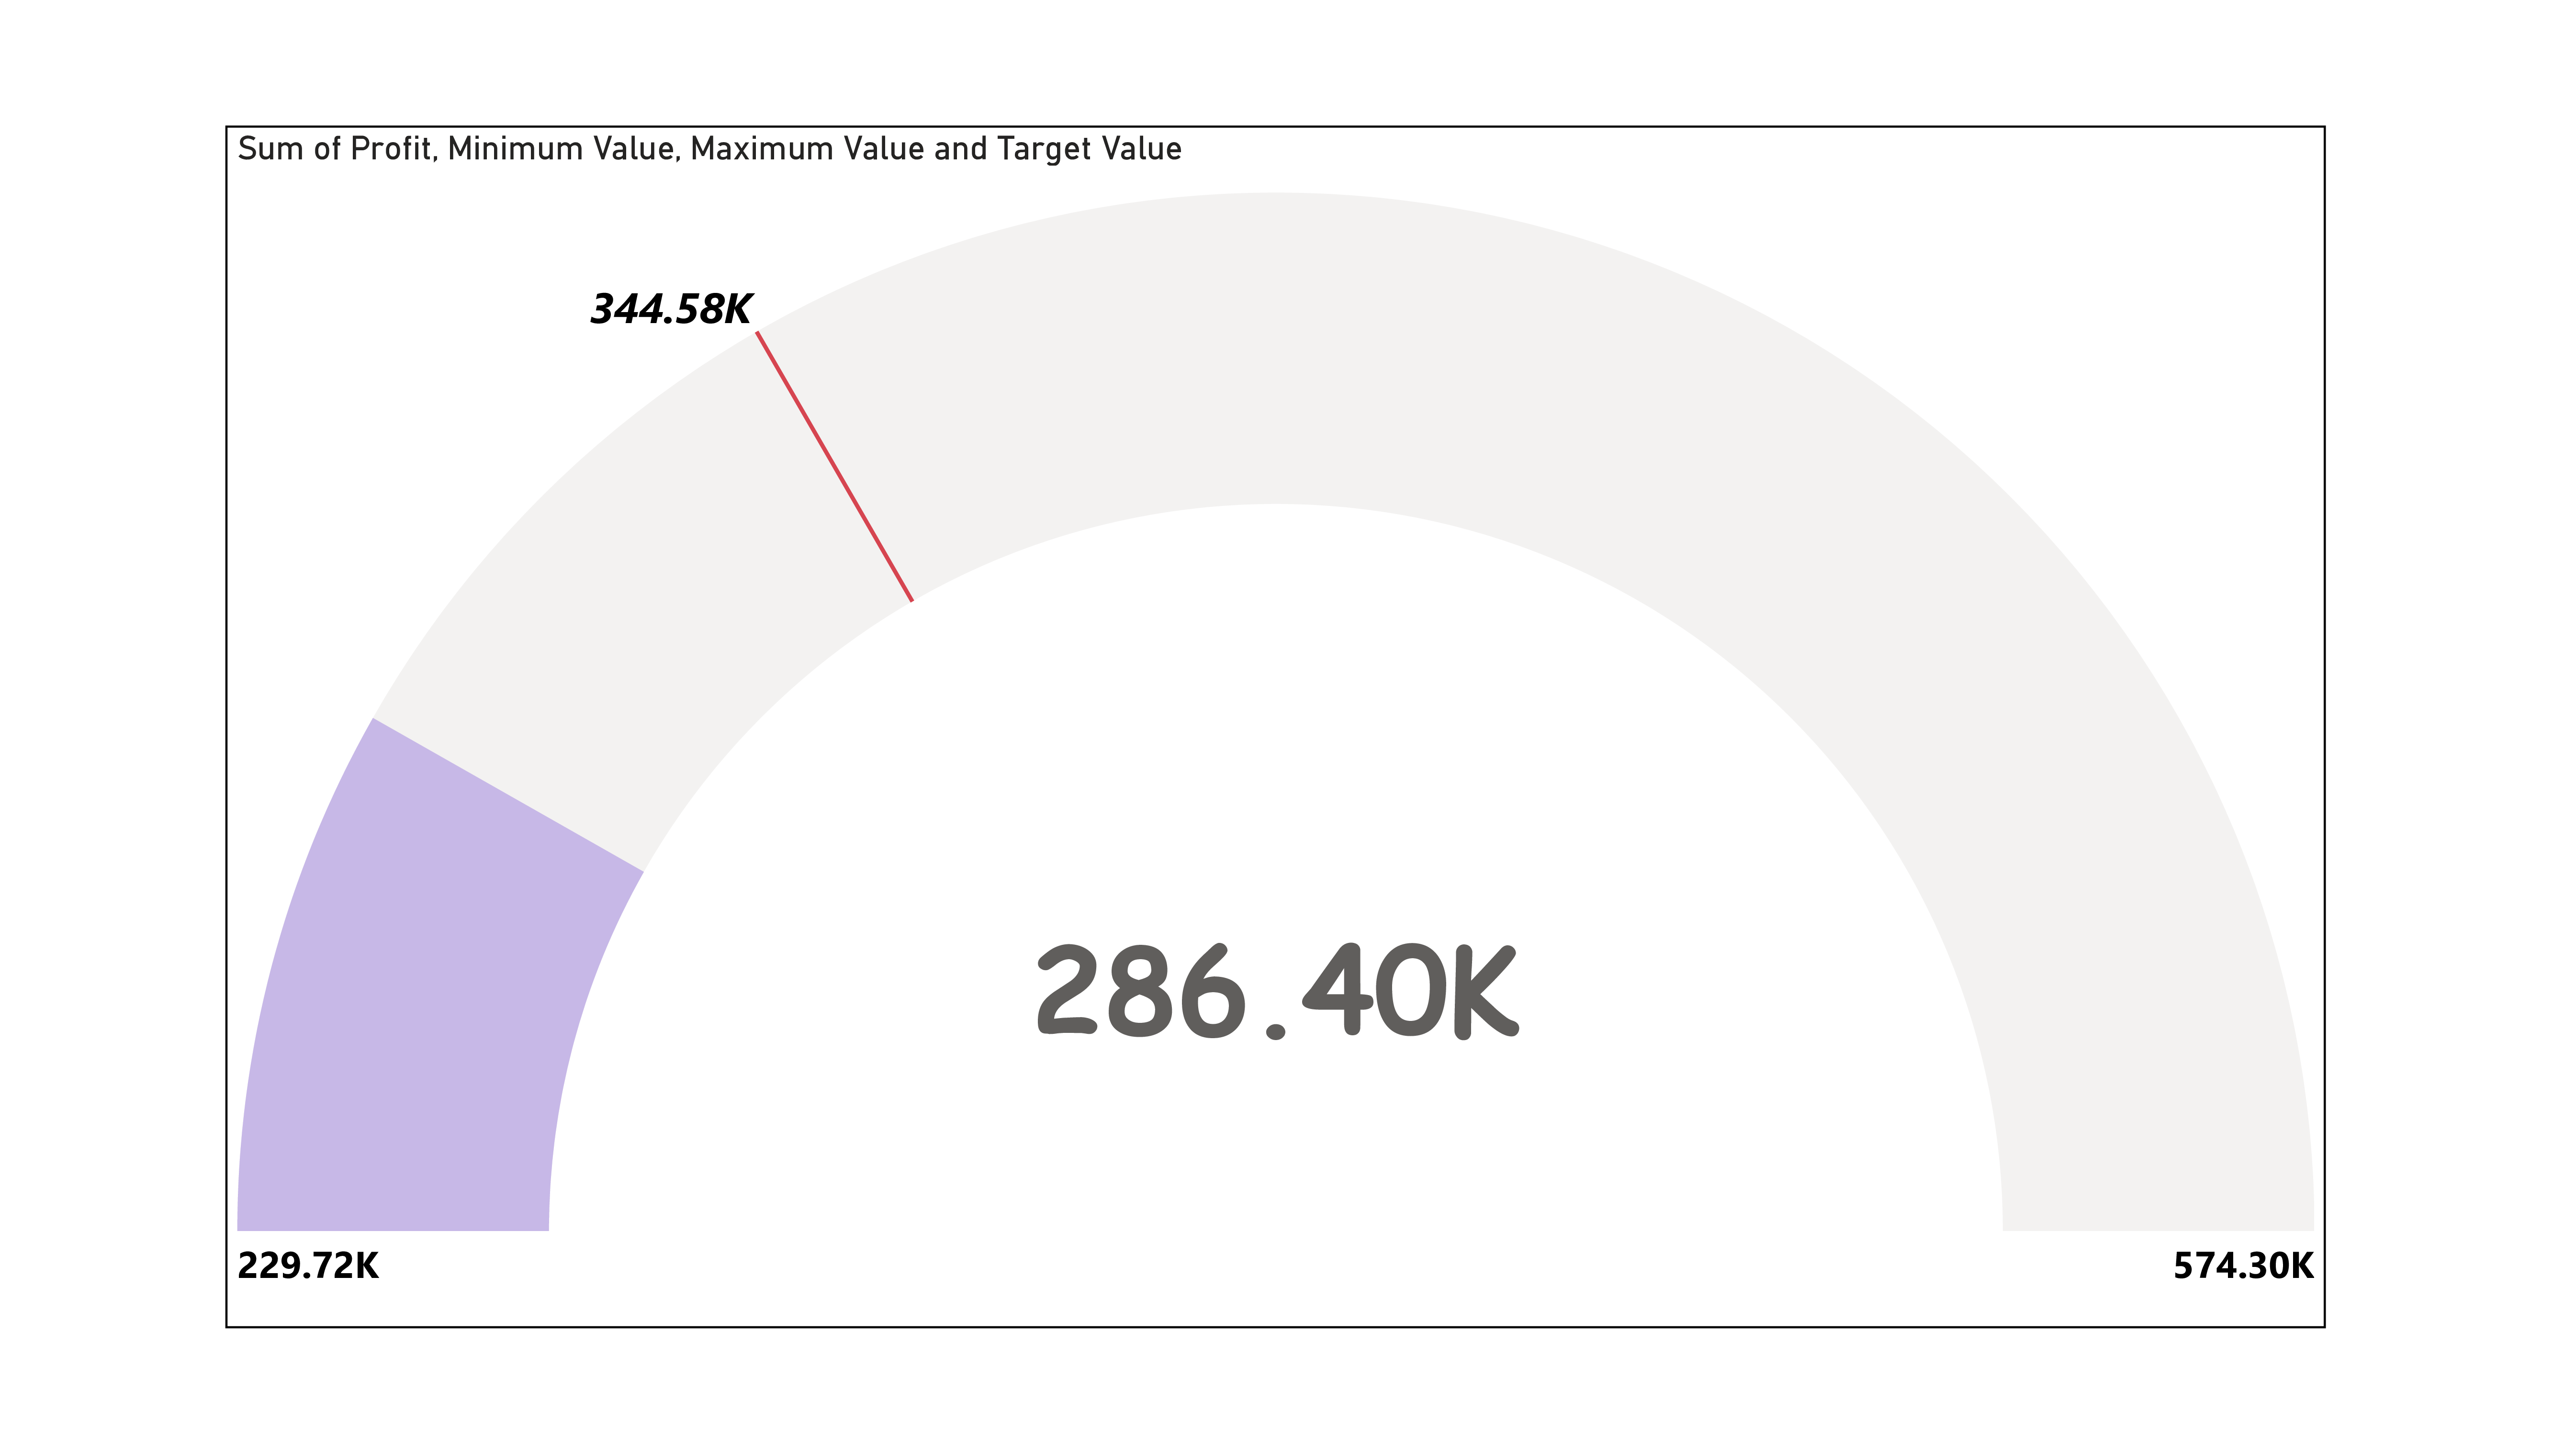

What the dashboard file says about the page in this screenshot:
{"tool":"powerbi","page":{"name":"Gauge","canvas":[1280,720],"ordinal":13},"visuals":[{"type":"gauge","fields":{"Y":["Sum(Sales.Profit)"],"MinValue":["Sales.Minimum Value"],"MaxValue":["Sales.Maximum Value"],"TargetValue":["Sales.Target Value"]},"box":[113.3,58.3,1053.3,603.3],"z":0}]}

Visuals, with their boxes in screenshot pixels (x1, y1, x2, y2), scaled from the page's 1280x720 canvas onto the 2553x1456 screenshot:
gauge - Sum(Sales.Profit) x Sales.Minimum Value: 226/118/2327/1338
